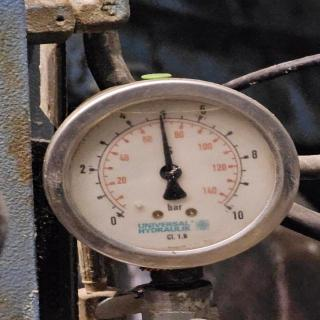gauge: (39, 81, 319, 271), (211, 191, 247, 225), (104, 197, 134, 231), (158, 163, 182, 181), (156, 109, 166, 123)
